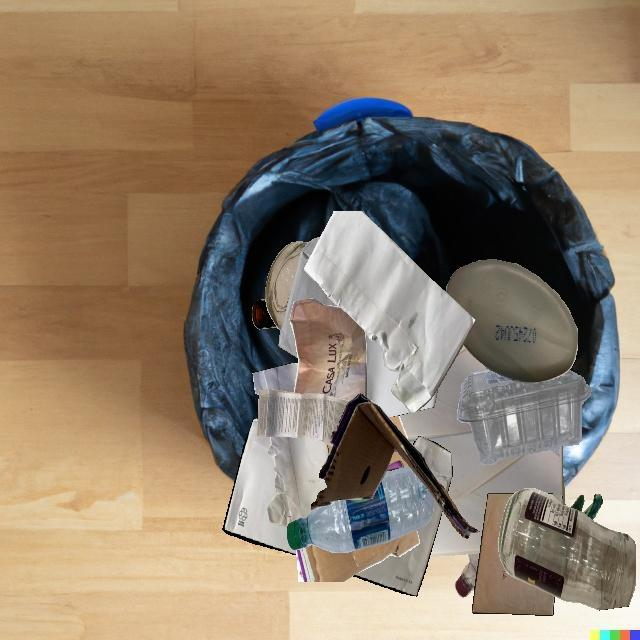biowaste: (583, 494, 603, 520), (571, 495, 584, 511)
cardboard: (311, 393, 480, 538), (296, 529, 419, 582)
glass: (498, 488, 636, 610), (265, 241, 307, 331), (252, 299, 279, 329)
paper: (305, 211, 476, 414), (423, 430, 565, 557), (318, 241, 430, 402), (273, 463, 441, 524), (472, 493, 555, 616), (223, 418, 297, 555), (399, 345, 487, 439), (289, 298, 367, 401), (279, 238, 339, 358), (267, 436, 329, 527), (257, 389, 351, 447), (366, 351, 410, 417)
plastic: (446, 259, 578, 383), (457, 369, 591, 465), (287, 466, 434, 553), (455, 553, 480, 598)
